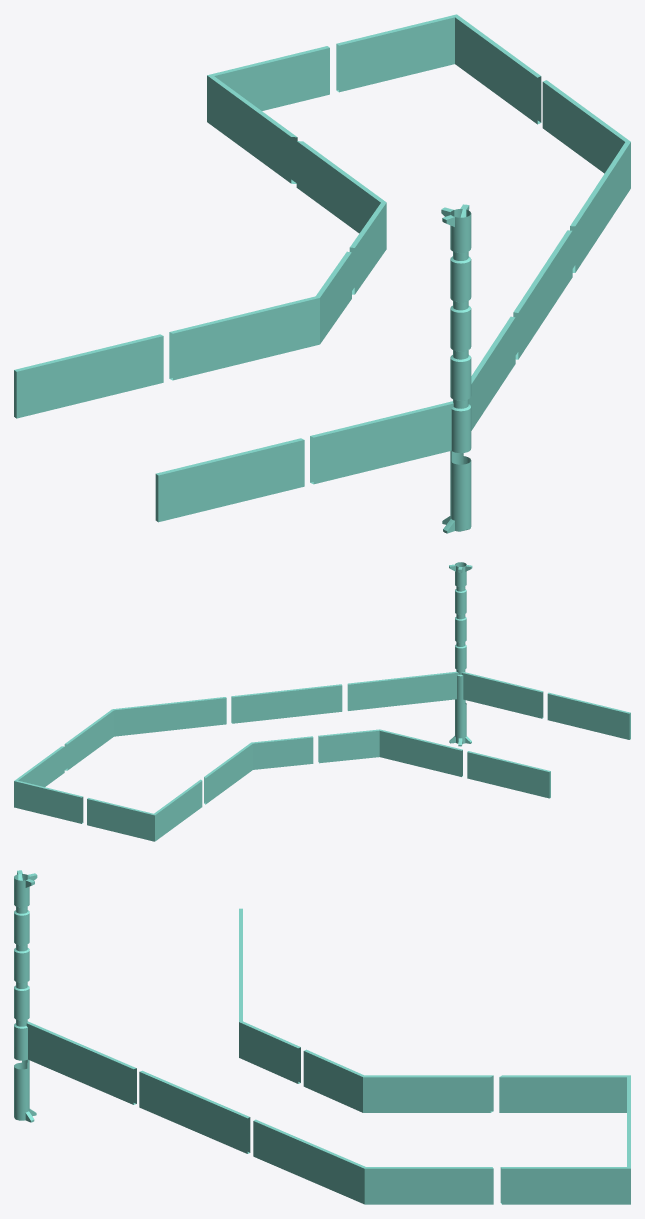
The model's file is Lab_Interior.fbx.
3 views of the same model, one above another, from view 1: azimuth 30°, elevation 25°; view 2: azimuth 150°, elevation 25°; view 3: azimuth 270°, elevation 25° (orthographic). The views are drawn at different scales.
Visible parts, largest first — view 1: Cube.001, Cylinder.002; view 2: Cube.001, Cylinder.002; view 3: Cube.001, Cylinder.002.
Boxes of the visible parts, x1,y1,x2,y2 form: Cube.001: [14, 14, 630, 522]; Cylinder.002: [441, 204, 471, 533]; Cube.001: [14, 671, 630, 841]; Cylinder.002: [449, 562, 472, 746]; Cube.001: [26, 908, 630, 1204]; Cylinder.002: [14, 870, 37, 1122].
Bounding box in the file's own units: 7699 × 3315 × 7722.
